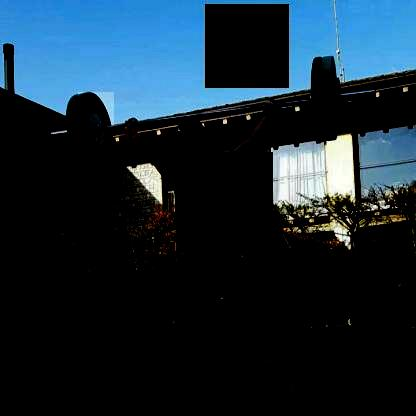barbell: (78, 93, 115, 167)
